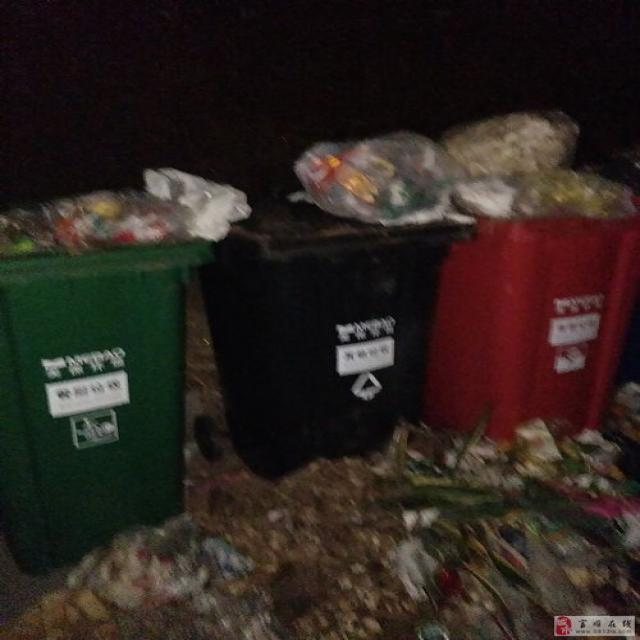garbage: (2, 378, 638, 639)
overflow: (0, 161, 252, 575), (200, 131, 475, 478), (421, 110, 639, 438)
